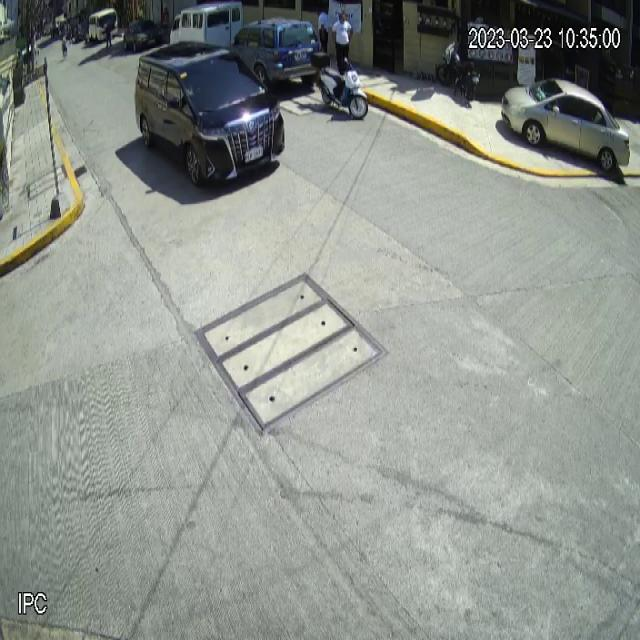Car: (501, 79, 631, 172), (230, 17, 322, 86)
Motorcycle: (311, 51, 368, 121)
Van: (134, 40, 286, 187), (170, 0, 243, 40)
